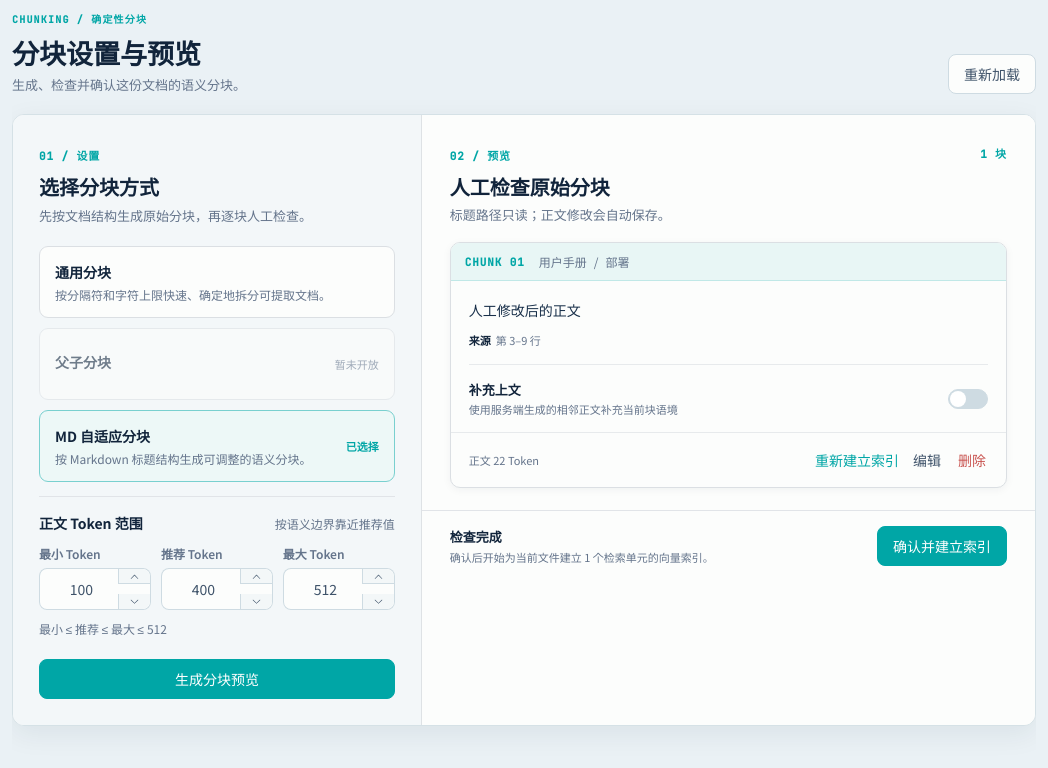
Test case: ChunkingWorkspace › cannot reload or clear deletion ownership while confirmation is pending
Click the button with test id "delete-chunk" at (972, 460), box [952, 440, 992, 480]
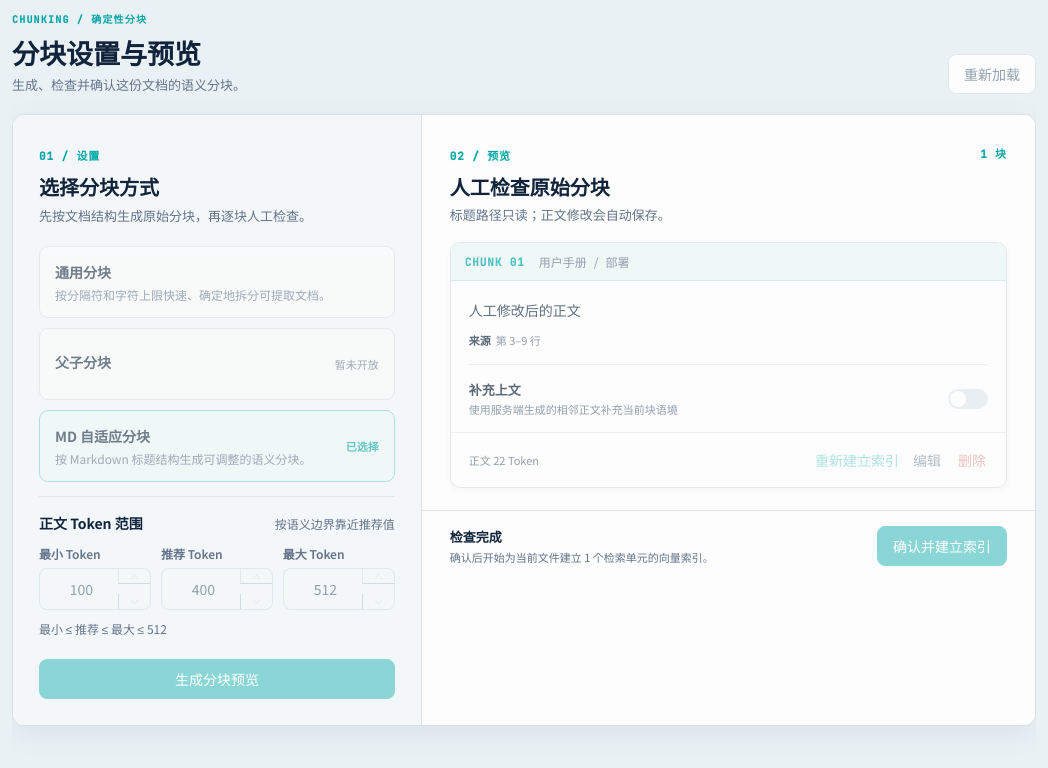
Now the button with test id "reload-workspace" is disabled, box [948, 54, 1036, 94]
